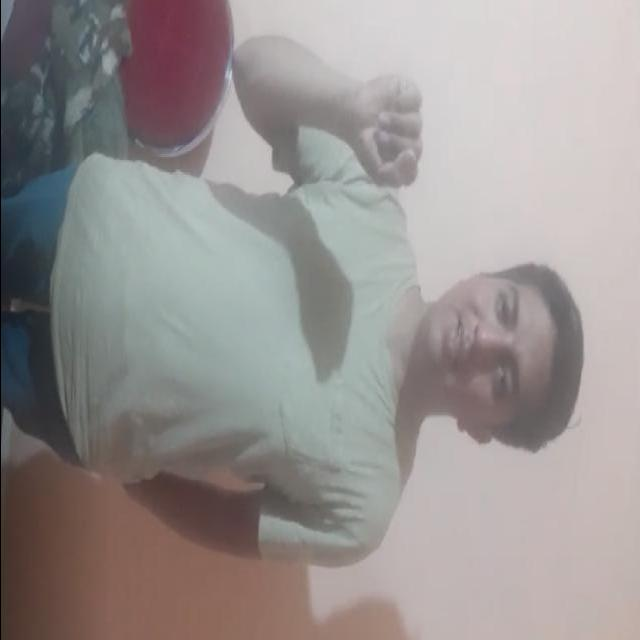S: (327, 66, 432, 230)
